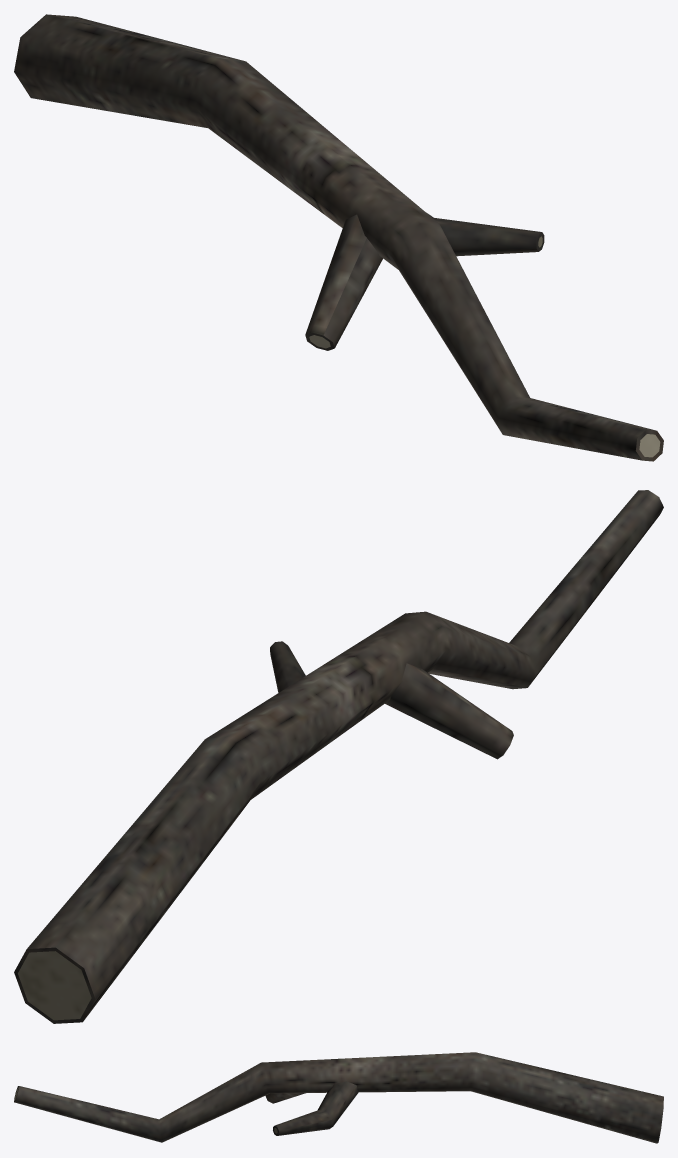
The model's file is deadWood_002.fbx.
The picture shows the model from 3 angles, top to bottom: view 1: azimuth 30°, elevation 25°; view 2: azimuth 150°, elevation 25°; view 3: azimuth 270°, elevation 25°; orthographic projection. The views are drawn at different scales.
Visible parts, largest first — view 1: deadWood.002; view 2: deadWood.002; view 3: deadWood.002.
Boxes of the visible parts, x1,y1,x2,y2 form: deadWood.002: (14, 14, 663, 461); deadWood.002: (14, 490, 663, 1023); deadWood.002: (14, 1052, 663, 1143).
Bounding box in the file's own units: 287 × 190 × 1248.
Materials: 2 (2 with a texture image).
